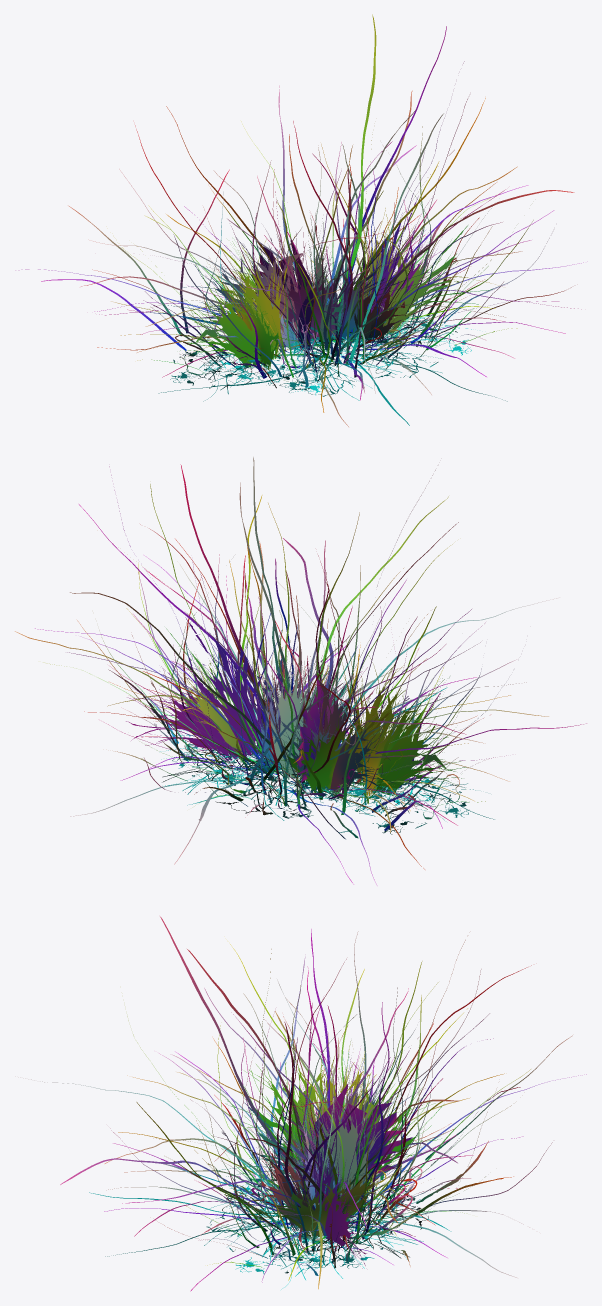
The model's file is Wild_Grass_vczndjqja_Raw_vczndjqja_VarA_LOD0.fbx.
The picture shows the model from 3 angles, top to bottom: view 1: azimuth 30°, elevation 25°; view 2: azimuth 150°, elevation 25°; view 3: azimuth 270°, elevation 25°; orthographic projection. The views are drawn at different scales.
Visible parts, largest first — view 1: _4xnp_VarA_High; view 2: _4xnp_VarA_High; view 3: _4xnp_VarA_High.
Part boxes in pixels (left/top/right/bottom): _4xnp_VarA_High: left=15, top=14, right=587, bottom=426; _4xnp_VarA_High: left=15, top=457, right=586, bottom=885; _4xnp_VarA_High: left=15, top=916, right=586, bottom=1291.
Size of the model in its own units: 157 by 89.11 by 147.
